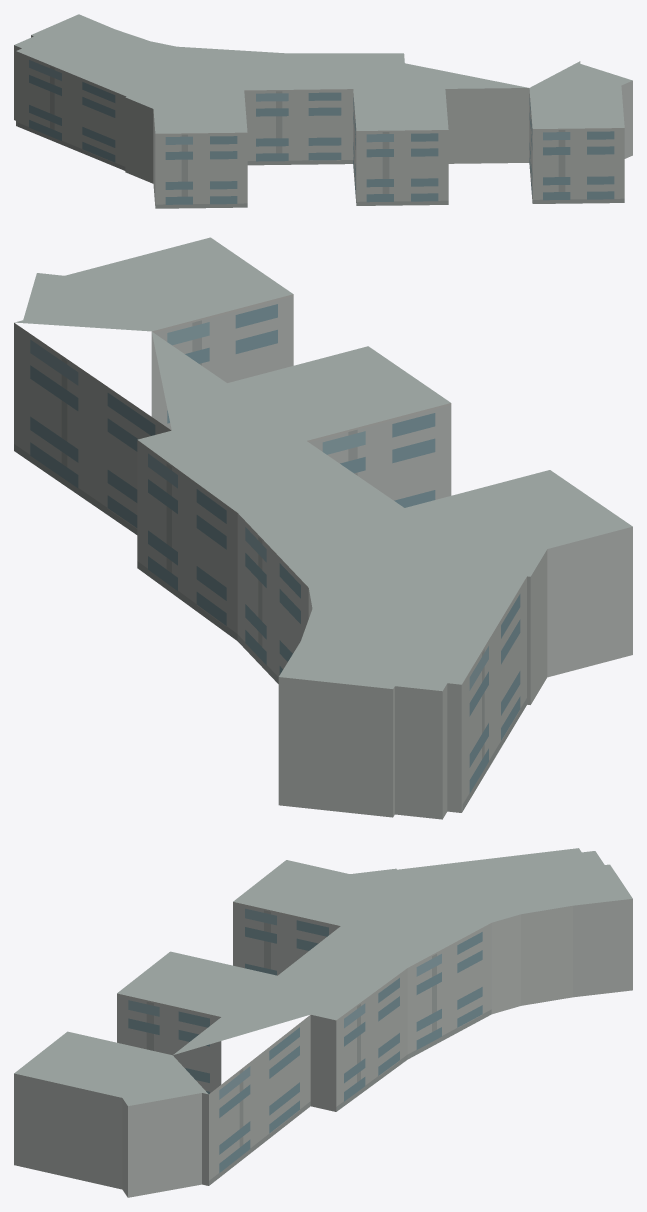
Rendered from survey-upis-32616979.glb.
3 views of the same model, one above another, from view 1: azimuth 30°, elevation 25°; view 2: azimuth 150°, elevation 25°; view 3: azimuth 270°, elevation 25° (orthographic). The views are drawn at different scales.
Visible parts, largest first — view 1: survey-upis-32616979.tmp; view 2: survey-upis-32616979.tmp; view 3: survey-upis-32616979.tmp.
Boxes of the visible parts, <box> form: survey-upis-32616979.tmp: <box>14,14,632,208</box>; survey-upis-32616979.tmp: <box>14,237,632,819</box>; survey-upis-32616979.tmp: <box>14,848,632,1197</box>.
Size of the model in its own units: 92.08 by 15.25 by 93.32.
